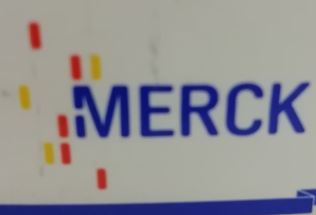Merck: (18, 18, 310, 195)
